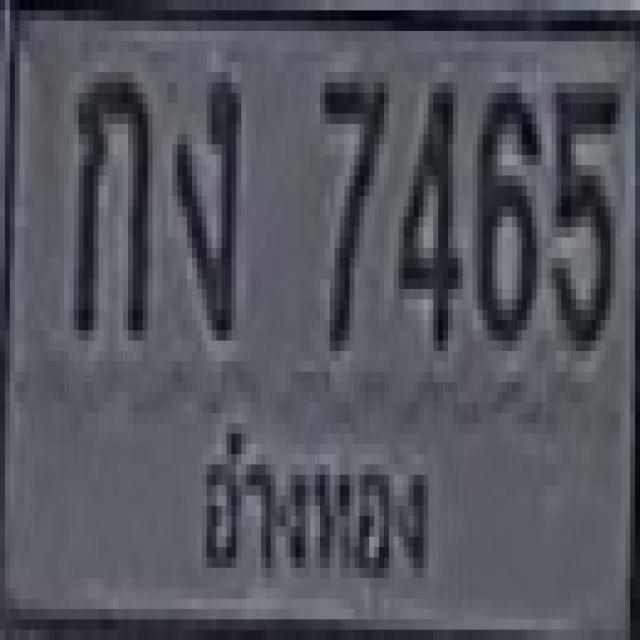-: (69, 62, 148, 330), (172, 72, 236, 330)
4: (394, 72, 453, 341)
5: (549, 72, 618, 341)
6: (472, 82, 536, 340)
7: (320, 72, 384, 341)
ATG: (185, 394, 448, 610)
